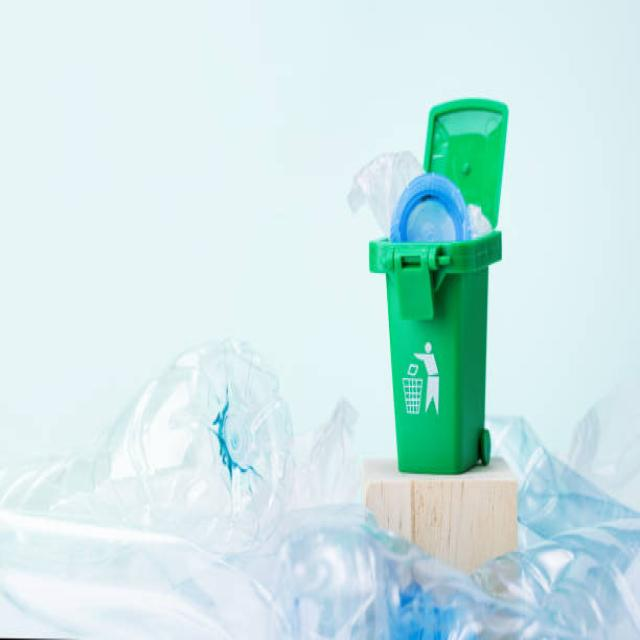plastic: (57, 339, 410, 616)
